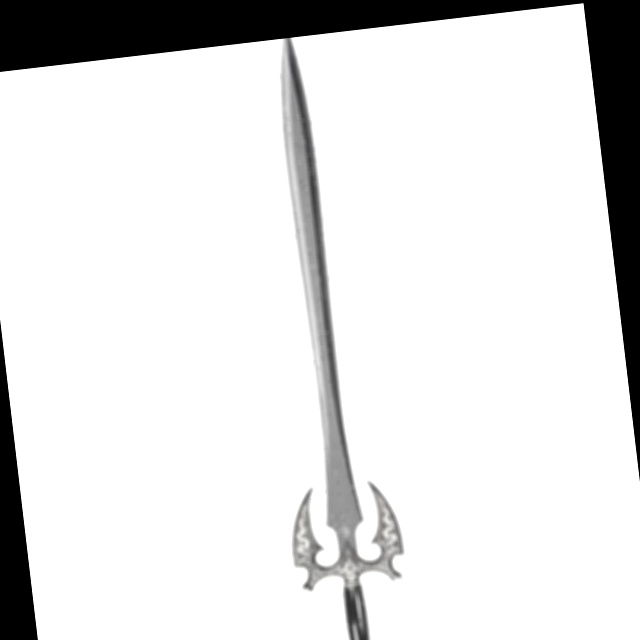Sharp-Object: (262, 36, 390, 640)
